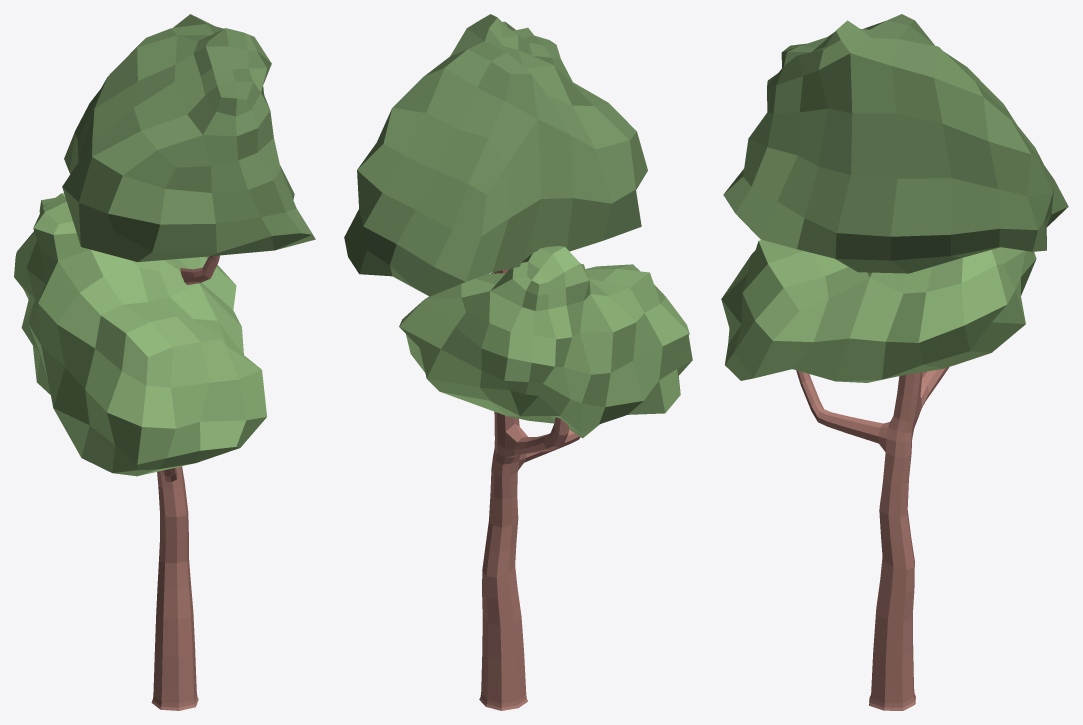
File: tree_3.glb
3 renders of one model, left to right at view 1: azimuth 30°, elevation 25°; view 2: azimuth 150°, elevation 25°; view 3: azimuth 270°, elevation 25°, orthographic. The views are drawn at different scales.
Parts seen in each view (by area): view 1: CommonTree_3; view 2: CommonTree_3; view 3: CommonTree_3.
Boxes of the visible parts, bbox=[...] form: CommonTree_3: bbox=[14, 14, 315, 710]; CommonTree_3: bbox=[344, 14, 692, 710]; CommonTree_3: bbox=[721, 14, 1068, 710].
Size of the model in its own units: 1.28 by 3.46 by 1.56.
